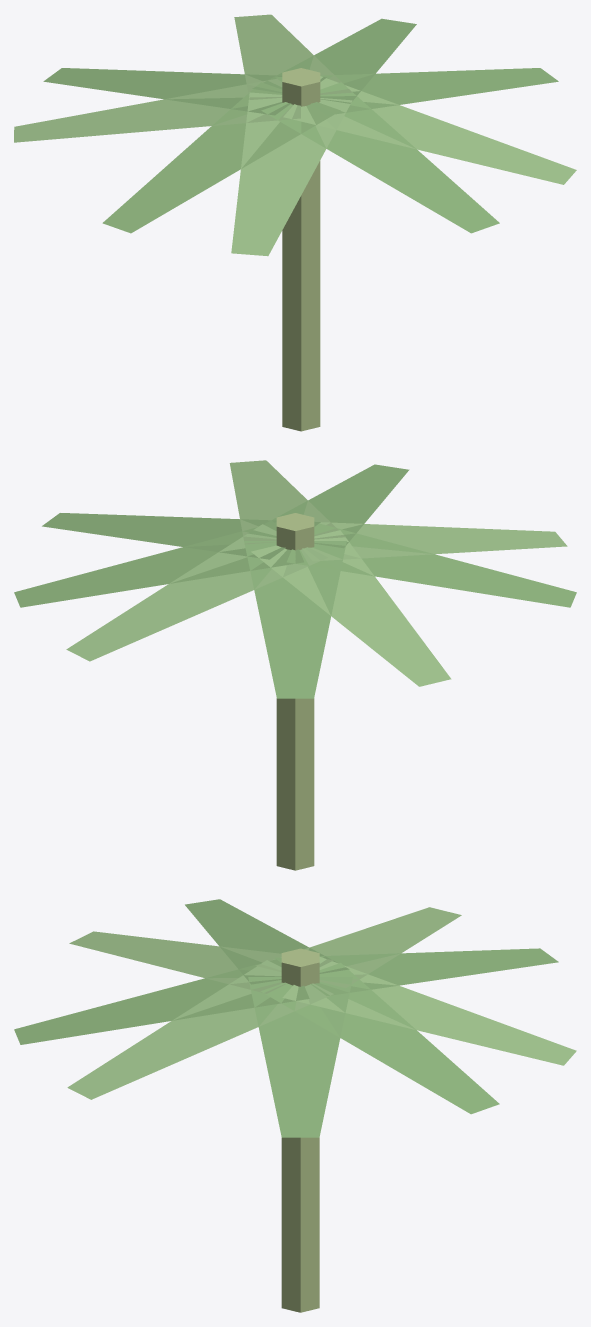
The model's file is veg_plant_banana_02.glb.
3 views of the same model, one above another, from view 1: azimuth 30°, elevation 25°; view 2: azimuth 150°, elevation 25°; view 3: azimuth 270°, elevation 25° (orthographic).
Parts seen in each view (by area): view 1: stem, leaf_03, leaf_02, leaf_04, leaf_01, leaf_05, leaf_00, leaf_06, leaf_08, leaf_07; view 2: leaf_06, leaf_05, stem, leaf_07, leaf_04, leaf_08, leaf_03, leaf_00, leaf_01, leaf_02; view 3: leaf_00, stem, leaf_08, leaf_01, leaf_07, leaf_02, leaf_06, leaf_03, leaf_05, leaf_04.
Part boxes in pixels (<box>): stem: <box>282,68,320,431</box>; leaf_03: <box>231,92,352,256</box>; leaf_02: <box>261,82,499,233</box>; leaf_04: <box>102,82,340,233</box>; leaf_01: <box>283,76,576,184</box>; leaf_05: <box>14,79,300,142</box>; leaf_00: <box>275,68,558,115</box>; leaf_06: <box>43,68,326,115</box>; leaf_08: <box>252,18,416,103</box>; leaf_07: <box>234,14,352,99</box>; leaf_06: <box>244,541,346,698</box>; leaf_05: <box>251,530,451,686</box>; stem: <box>276,513,314,870</box>; leaf_07: <box>66,524,327,661</box>; leaf_04: <box>287,523,576,607</box>; leaf_08: <box>14,522,303,607</box>; leaf_03: <box>302,522,567,561</box>; leaf_00: <box>42,513,320,559</box>; leaf_01: <box>229,460,345,544</box>; leaf_02: <box>247,464,409,548</box>; leaf_00: <box>248,977,352,1137</box>; stem: <box>281,948,319,1312</box>; leaf_08: <box>260,963,499,1114</box>; leaf_01: <box>67,960,333,1099</box>; leaf_07: <box>282,957,576,1065</box>; leaf_02: <box>14,959,309,1044</box>; leaf_06: <box>274,948,558,995</box>; leaf_03: <box>69,931,333,993</box>; leaf_05: <box>255,907,461,987</box>; leaf_04: <box>185,899,349,984</box>.
Bounding box in the file's own units: 3.84 × 2.59 × 3.83.
